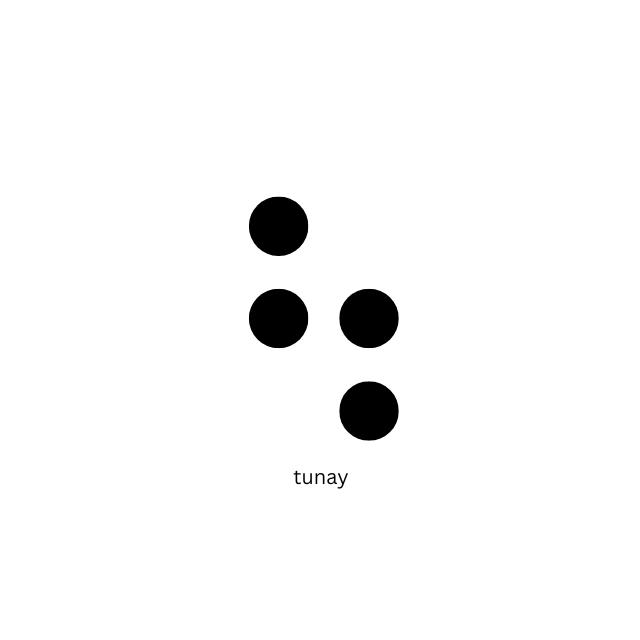one_cell_non_alphabet_tunay: (246, 193, 401, 443)
